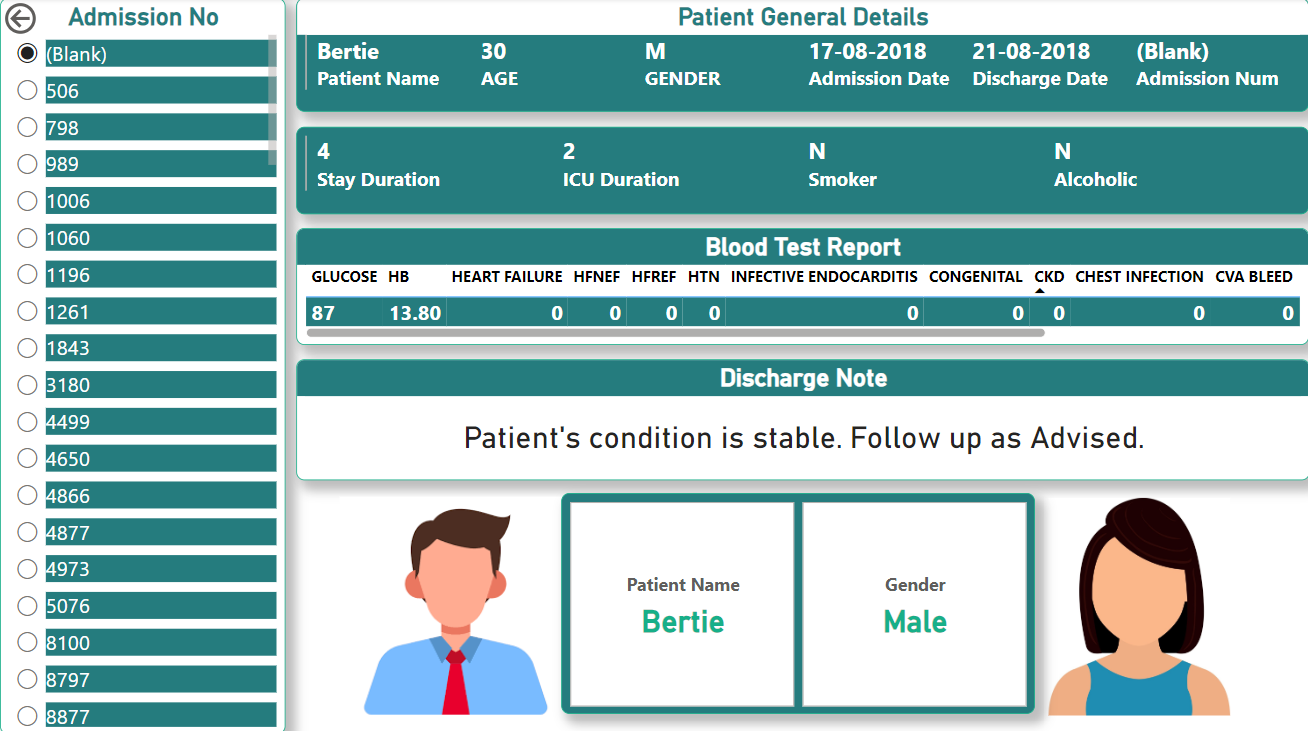

The dashboard page shown, as its layout file describes it:
{"tool":"powerbi","page":{"name":"Page 1","canvas":[1280,720],"ordinal":0},"visuals":[{"type":"slicer","title":"Admission No","fields":{"Values":["Master Data.Admission Num"]},"box":[0,0,279.4,720.1],"z":0},{"type":"multiRowCard","title":"Patient General Details","fields":{"Values":["Master Data.Name","HDHI Admission data.AGE","HDHI Admission data.GENDER","HDHI Admission data.D.O.A","HDHI Admission data.D.O.D","Master Data.Admission Num"]},"box":[289.7,0,990.2,111.2],"z":1000},{"type":"multiRowCard","fields":{"Values":["HDHI Admission data.Stay Duration","HDHI Admission data.duration of intensive unit stay","HDHI Admission data.Smoker","HDHI Admission data.Alcoholic"]},"box":[289.7,125.9,990.2,85.6],"z":2000},{"type":"tableEx","title":"Blood Test Report","fields":{"Values":["HDHI Admission data.GLUCOSE","HDHI Admission data.HB","HDHI Admission data.HEART FAILURE","HDHI Admission data.HFNEF","HDHI Admission data.HFREF","HDHI Admission data.HTN","HDHI Admission data.INFECTIVE ENDOCARDITIS","HDHI Admission data.CONGENITAL","HDHI Admission data.CKD","HDHI Admission data.CHEST INFECTION","HDHI Admission data.CVA BLEED","HDHI Admission data.CVA INFRACT"]},"box":[289.7,224.9,990.2,114],"z":3000},{"type":"card","title":"Discharge Note","fields":{"Values":["HDHI Admission data.DOCTORS NOTE"]},"box":[289.1,353,991.1,118.5],"z":4000},{"type":"actionButton","box":[0,0,100.2,40.3],"z":5000},{"type":"card","fields":{"Values":["HDHI Admission data.GENDER"]},"box":[616,483.2,321.7,237],"z":6000},{"type":"image","box":[948.2,484.5,330.8,222.7],"z":7000},{"type":"image","box":[289.1,483.2,311.3,237],"z":8000}]}

Visuals, with their boxes in screenshot pixels (x1, y1, x2, y2), scaled from the page's 1280x720 canvas onto the 1308x731 screenshot:
"Admission No" slicer: l=0, t=0, r=286, b=730
"Patient General Details" multiRowCard: l=296, t=0, r=1307, b=113
multiRowCard - HDHI Admission data.Stay Duration x HDHI Admission data.duration of intensive unit stay: l=296, t=128, r=1307, b=215
"Blood Test Report" tableEx: l=296, t=228, r=1307, b=344
"Discharge Note" card: l=295, t=358, r=1307, b=479
actionButton: l=0, t=0, r=102, b=41
card - HDHI Admission data.GENDER: l=629, t=491, r=958, b=730
image: l=969, t=492, r=1307, b=718
image: l=295, t=491, r=614, b=730
